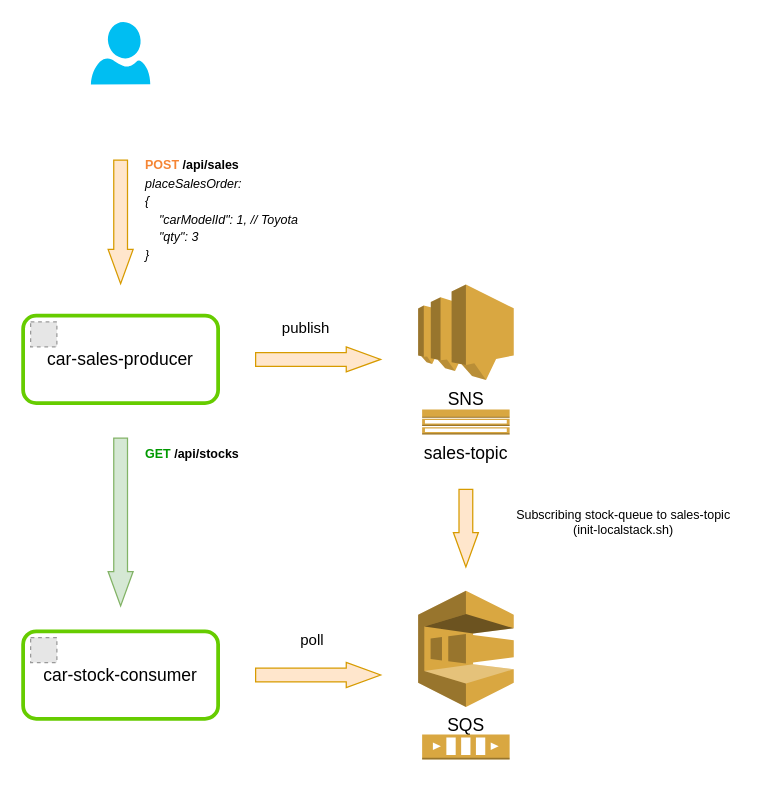
Image size: 764x810. Some labels were removed from this diagram. Grey dashed boxes stand in for pictures. The centre of each missing label's shape, as x and y in pixels:
Customer (buyer): [120,52]
stock-queue: [465,746]
